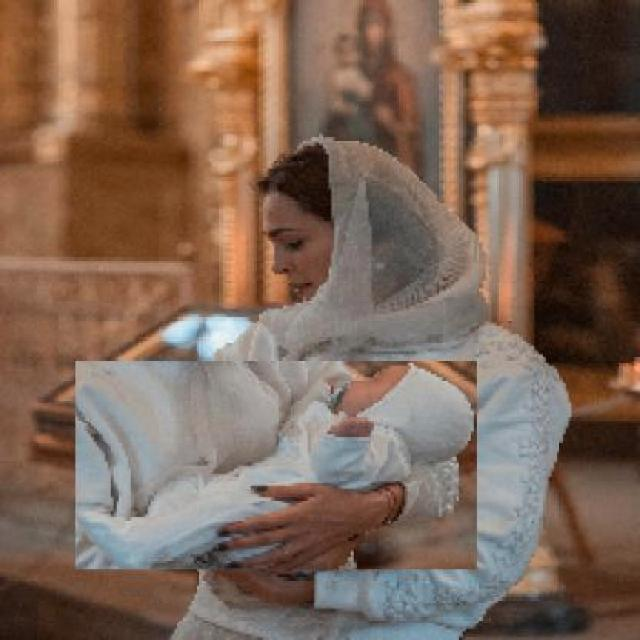child: (74, 360, 477, 571)
